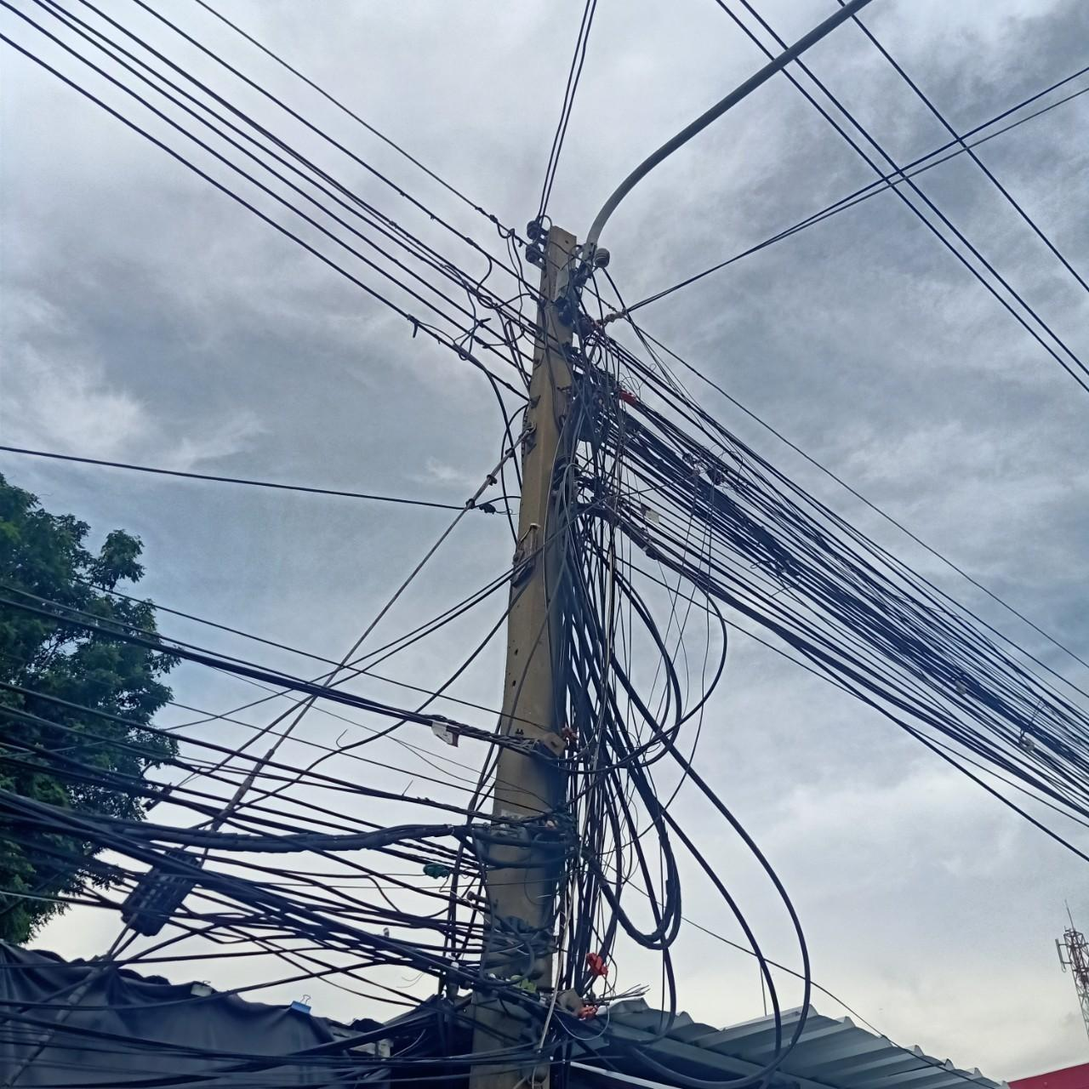wires: (721, 420, 1089, 868), (205, 635, 471, 1075), (293, 85, 539, 374), (597, 320, 704, 981), (10, 0, 270, 102)
